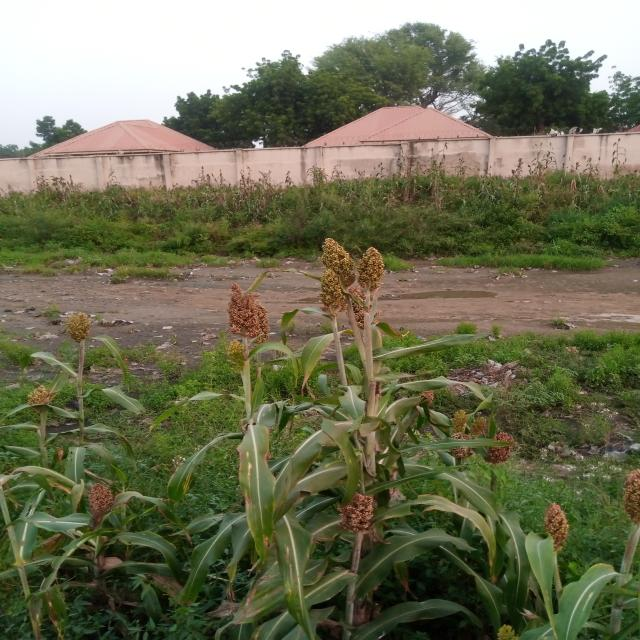UnripeSorghum: (308, 208, 411, 325)
